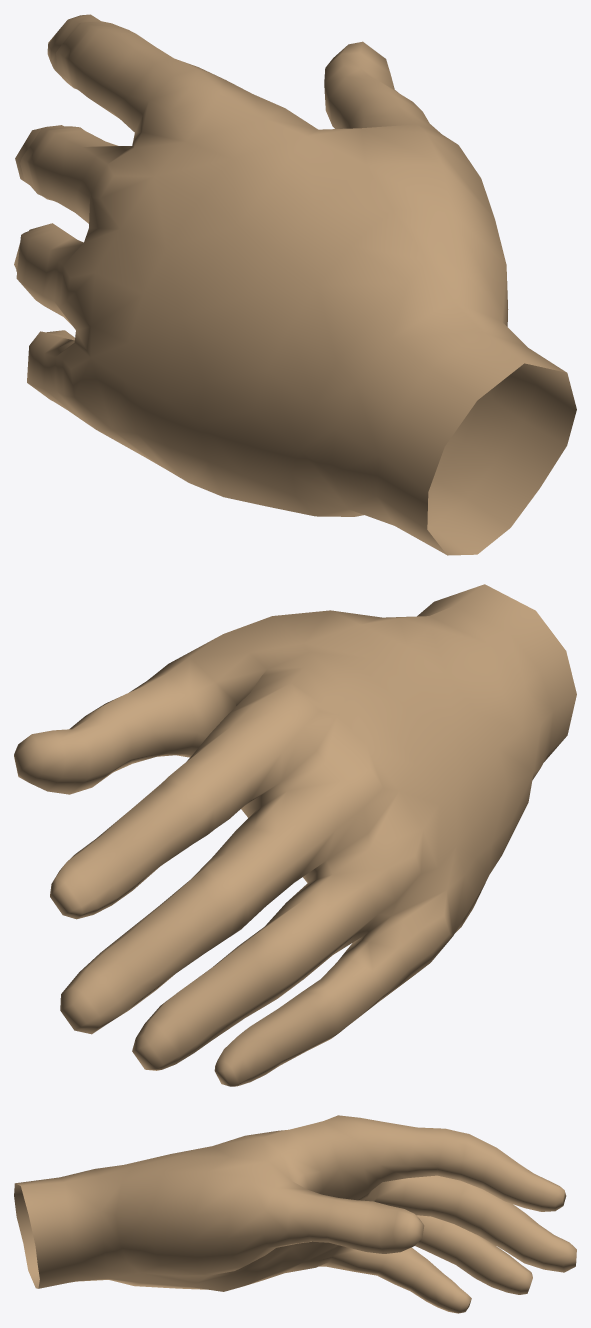
File: leftHand.fbx
The picture shows the model from 3 angles, top to bottom: view 1: azimuth 30°, elevation 25°; view 2: azimuth 150°, elevation 25°; view 3: azimuth 270°, elevation 25°; orthographic projection. The views are drawn at different scales.
Parts seen in each view (by area): view 1: Hand Topology; view 2: Hand Topology; view 3: Hand Topology.
Boxes of the visible parts, x1,y1,x2,y2 form: Hand Topology: (14, 14, 576, 555); Hand Topology: (14, 584, 576, 1086); Hand Topology: (14, 1115, 576, 1313).
Size of the model in its own units: 1097 by 933 by 2297.
